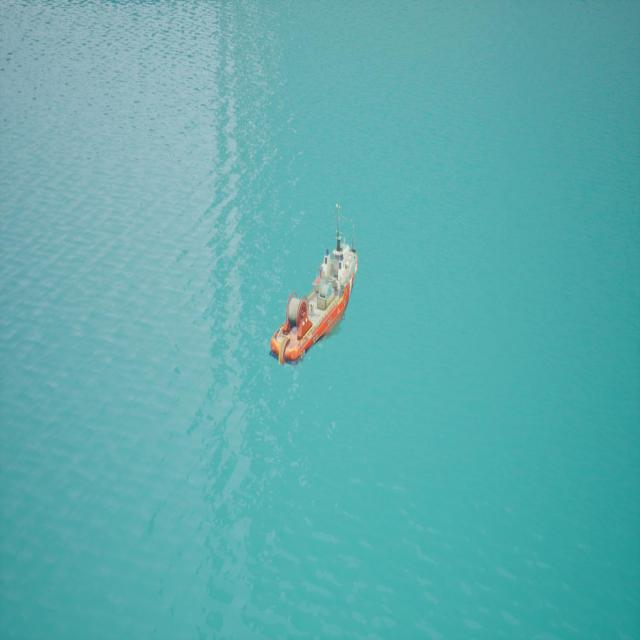tug boat: (296, 208, 357, 365)
